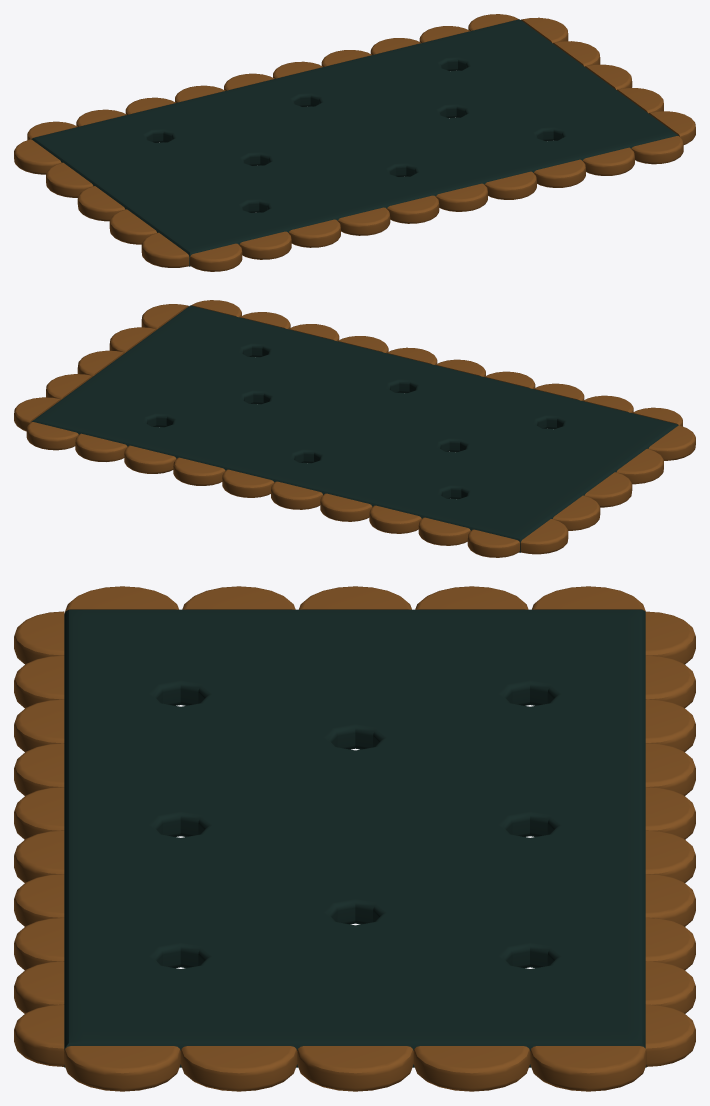
The model's file is BiscuitRectangletextured 1.fbx.
3 renders of one model, top to bottom at view 1: azimuth 30°, elevation 25°; view 2: azimuth 150°, elevation 25°; view 3: azimuth 270°, elevation 25°, orthographic. The views are drawn at different scales.
Visible parts, largest first — view 1: polySurface65 (×2); view 2: polySurface65 (×2); view 3: polySurface65 (×2).
Part boxes in pixels (x1=…): polySurface65 (×2): x1=14, y1=14, x2=695, y2=271; polySurface65 (×2): x1=14, y1=300, x2=695, y2=557; polySurface65 (×2): x1=14, y1=586, x2=695, y2=1091.
Bounding box in the file's own units: 3.6 × 0.0879 × 2.13.
